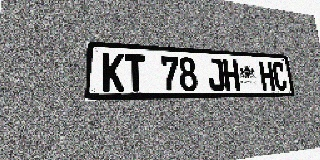7: (160, 56, 180, 91)
8: (178, 57, 198, 91)
C: (271, 62, 288, 90)
H: (222, 59, 240, 91), (259, 61, 275, 90)
J: (207, 58, 225, 91)
K: (102, 53, 124, 92)
T: (125, 54, 146, 91)
